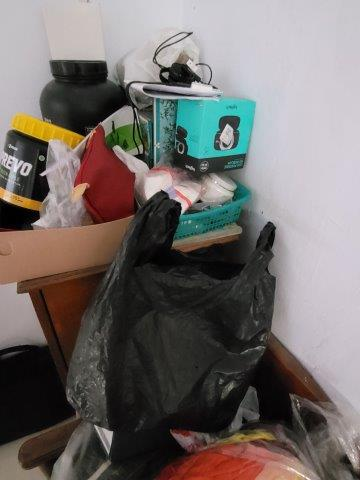plastik: (65, 191, 281, 426), (38, 144, 85, 226)
